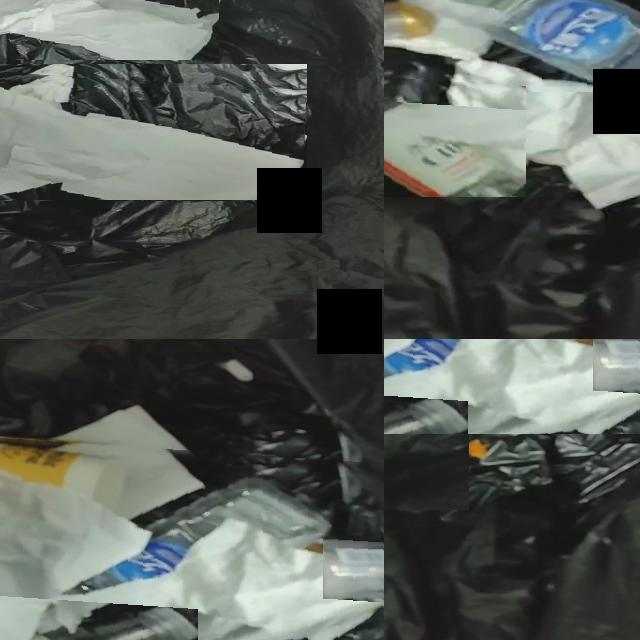bottle: (78, 454, 331, 581), (408, 0, 640, 84), (384, 130, 526, 197), (28, 593, 199, 640), (384, 385, 469, 460), (324, 512, 384, 570)
dixie_cup: (0, 437, 131, 496)
paper: (0, 474, 384, 640), (384, 59, 640, 209), (0, 74, 304, 200), (384, 339, 640, 434), (55, 405, 206, 505), (0, 0, 219, 60), (604, 2, 640, 58)
